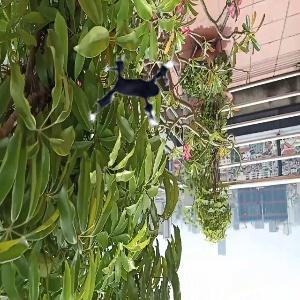drone: (79, 39, 199, 159)
